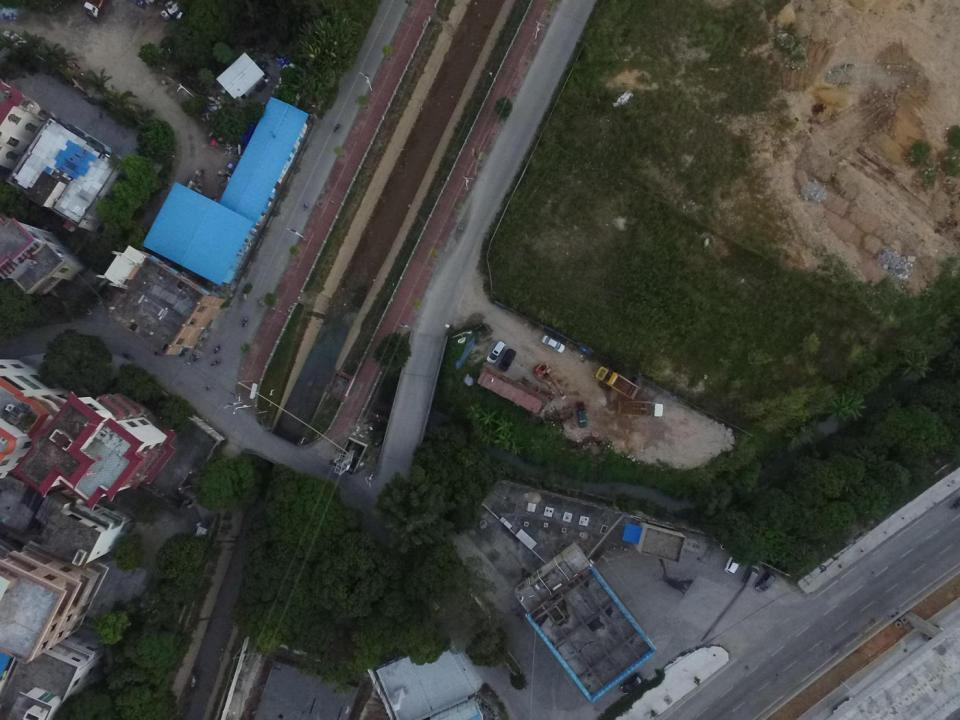car: (724, 551, 745, 575), (541, 334, 566, 354), (486, 339, 505, 365), (498, 348, 516, 373)
truck: (592, 364, 640, 400), (617, 398, 664, 417), (576, 401, 588, 430)
van: (754, 571, 776, 593), (741, 562, 760, 587)
